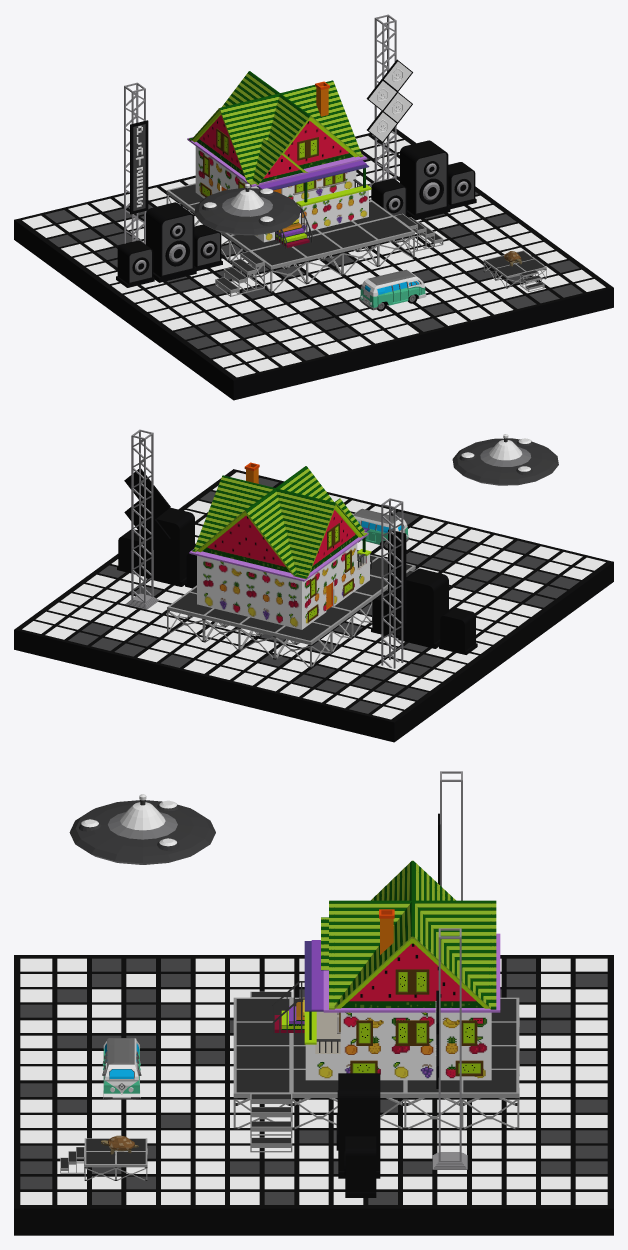
3 renders of one model, top to bottom at view 1: azimuth 30°, elevation 25°; view 2: azimuth 150°, elevation 25°; view 3: azimuth 270°, elevation 25°, orthographic. The views are drawn at different scales.
Parts seen in each view (by area): view 1: Cube.008, Cube.1063, OBJRANDOM_UFO, VEHICLES_VAN; view 2: Cube.008, Cube.1063, OBJRANDOM_UFO, VEHICLES_VAN; view 3: Cube.008, Cube.1063, OBJRANDOM_UFO, VEHICLES_VAN.
Part boxes in pixels (box(x1,y1,x2,y2)): Cube.008: box(14, 14, 613, 400); Cube.1063: box(187, 71, 371, 248); OBJRANDOM_UFO: box(194, 183, 300, 235); VEHICLES_VAN: box(359, 269, 426, 311); Cube.008: box(14, 429, 613, 742); Cube.1063: box(189, 462, 372, 629); OBJRANDOM_UFO: box(452, 434, 558, 485); VEHICLES_VAN: box(353, 508, 409, 550); Cube.008: box(14, 771, 613, 1235); Cube.1063: box(272, 860, 500, 1080); OBJRANDOM_UFO: box(69, 794, 215, 864); VEHICLES_VAN: box(102, 1038, 141, 1099).
Bounding box in the file's own units: 4000 × 1995 × 4000.
40 materials, 4 textured.
